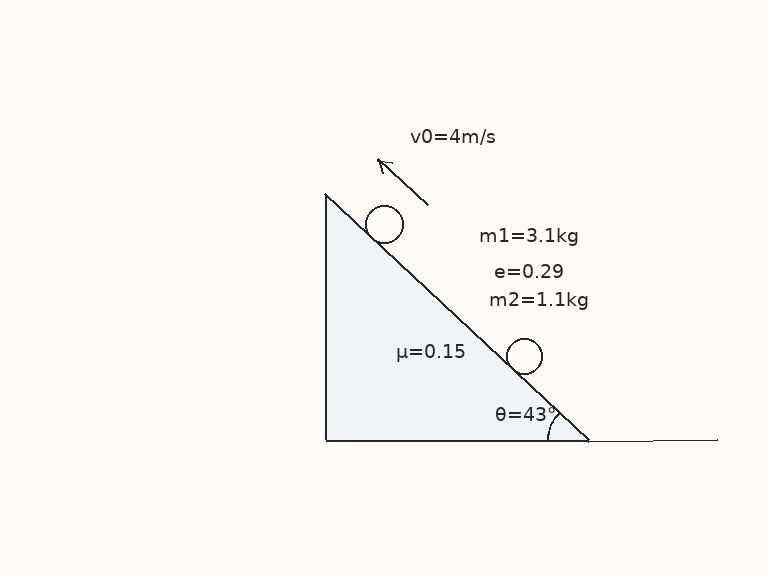ball: (363, 203, 405, 245), (504, 336, 544, 376)
ramp: (323, 193, 590, 442)
